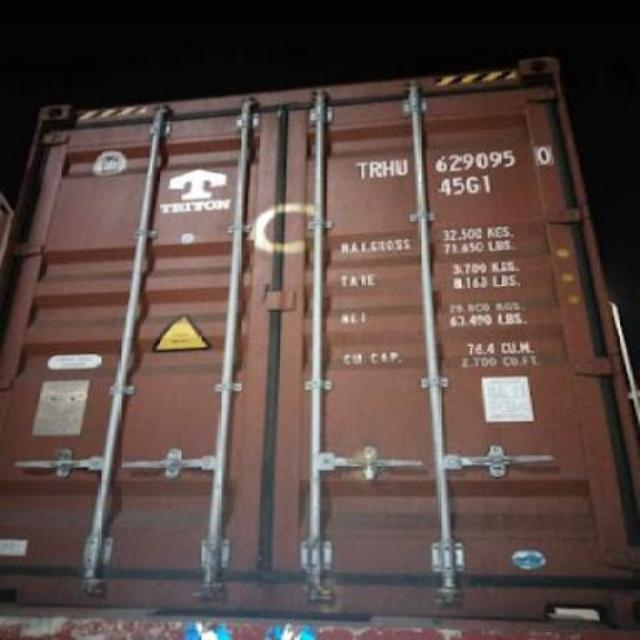0: (474, 146, 488, 174), (534, 142, 550, 164)
2: (446, 149, 459, 175)
5: (500, 145, 516, 171)
6: (432, 151, 448, 175)
9: (461, 147, 474, 177), (486, 146, 499, 172)
H: (381, 156, 394, 180)
R: (368, 157, 380, 181)
T: (354, 157, 368, 183)
U: (394, 156, 410, 180)
